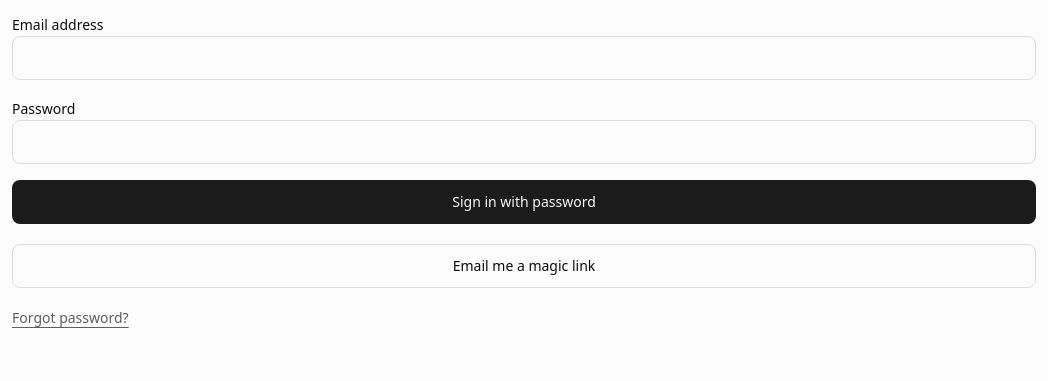
SignInForm local development assistance › hides local assistance outside ordinary local development
The width and height of the screenshot is (1048, 381).
Type "platform.admin@example.com" into the field labelled "Email address" at (524, 58), box x1=12 y1=36 x2=1036 y2=80
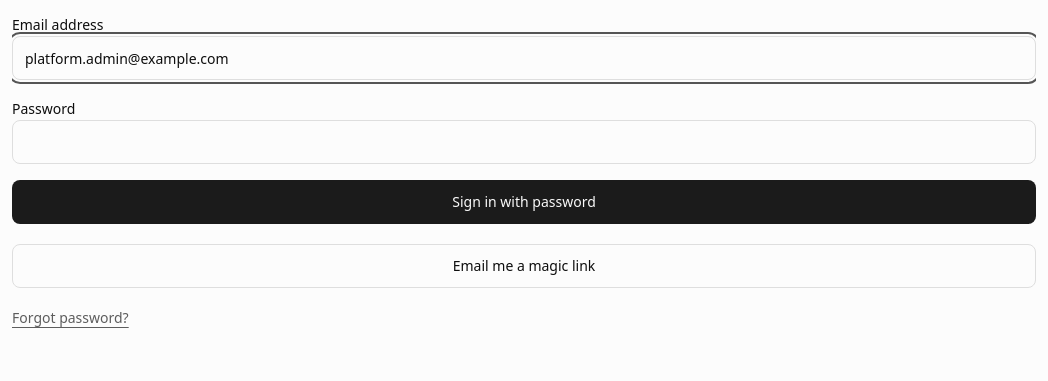
Click the button "Email me a magic link" at (524, 266), box x1=12 y1=244 x2=1036 y2=288
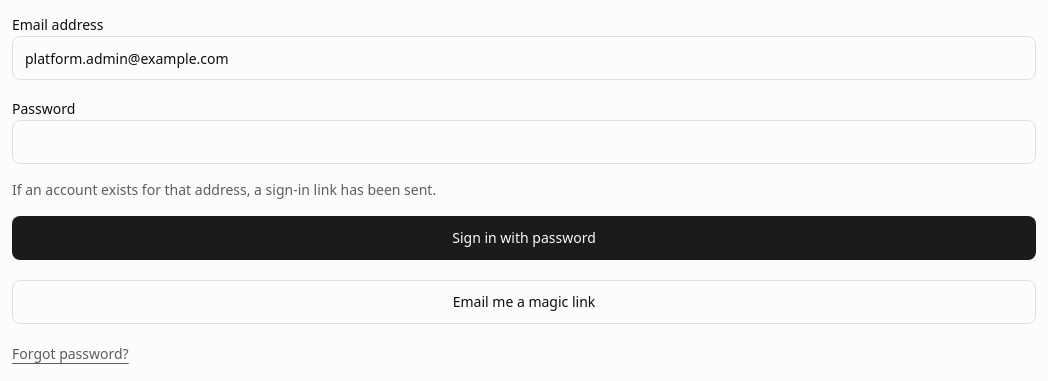
Check: the text "If an account exists for that address, a sign-in link has been sent." is shown, box x1=12 y1=180 x2=436 y2=199
